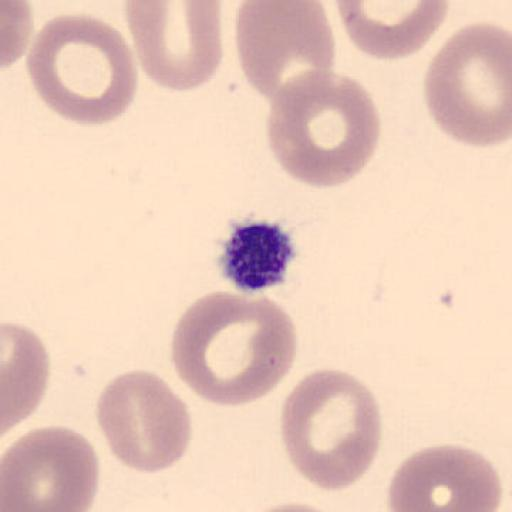Platelet: (215, 215, 298, 294)
RBC: (169, 286, 299, 409), (264, 68, 382, 190), (25, 12, 139, 129), (280, 366, 384, 494), (422, 23, 512, 149), (232, 0, 336, 107), (94, 368, 192, 474), (123, 0, 224, 93), (1, 424, 100, 512), (386, 443, 504, 512), (333, 0, 451, 62), (2, 319, 52, 434), (1, 1, 35, 71), (239, 500, 347, 512)
